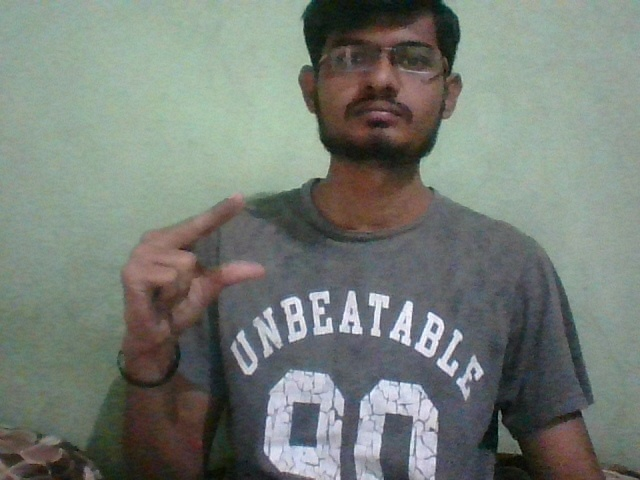no: (111, 192, 278, 342)
